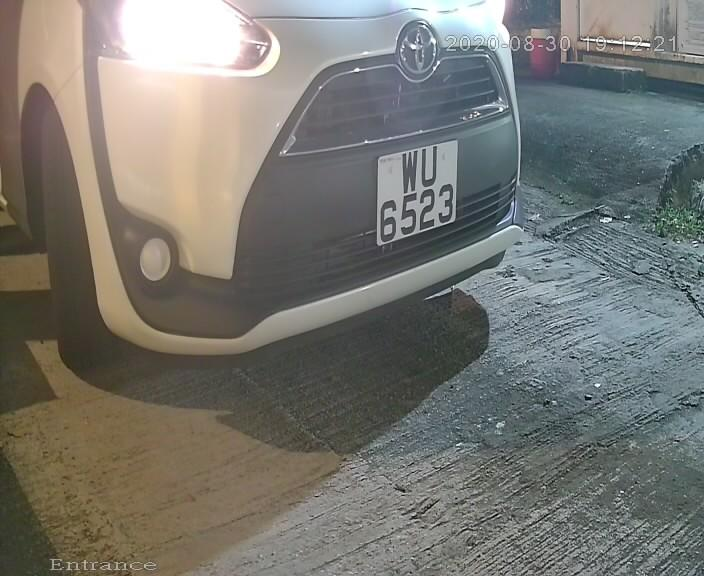License Plate: (365, 127, 466, 260)
